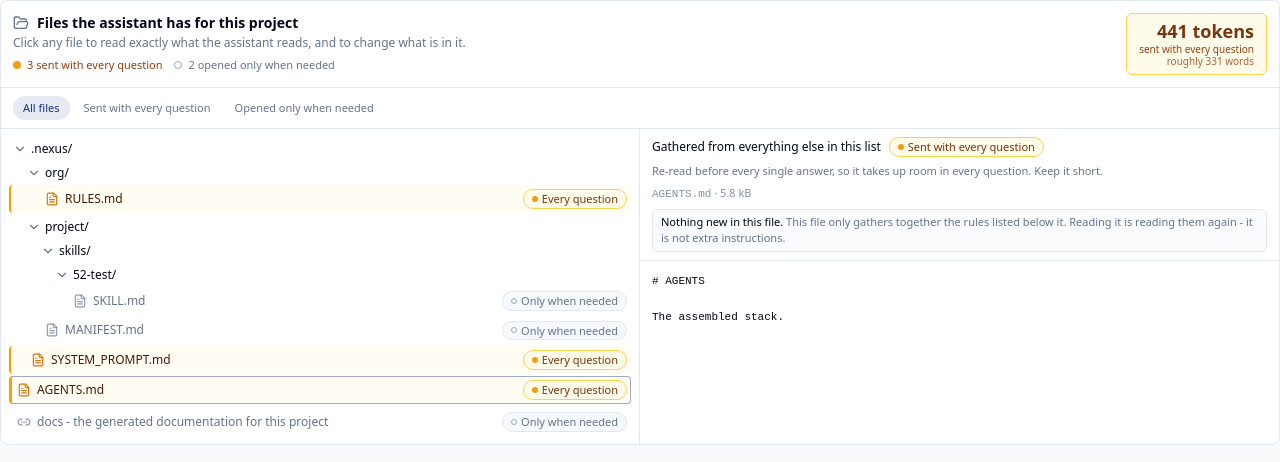
Scenario: WorkspaceTree › explains the system role rather than showing its internal token
Click the button "SYSTEM_PROMPT.md Every question".
click(111, 360)  # box 9,346 -> 631,374
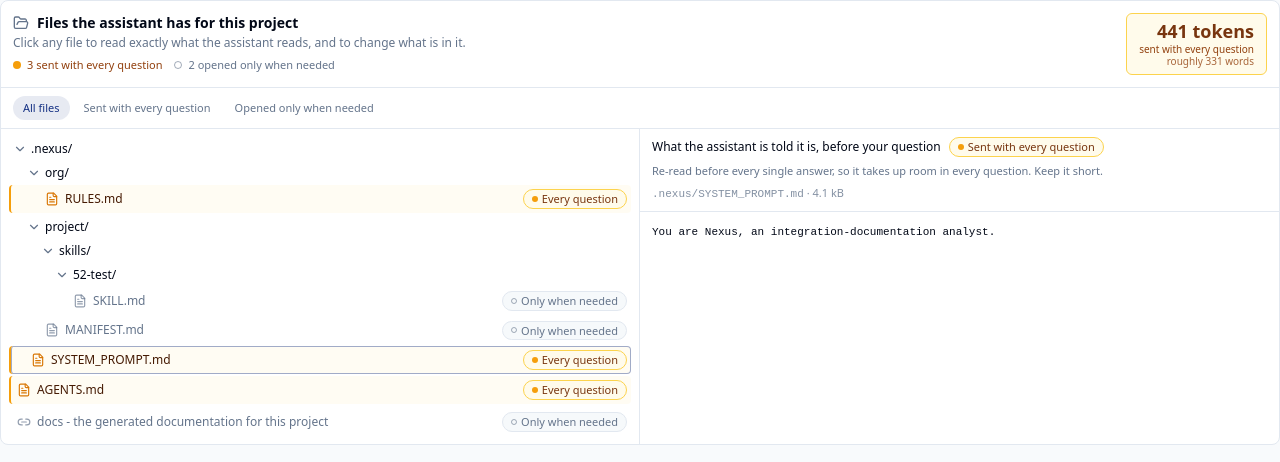
Expected: the element with test id "workspace-viewer-origin" does not show "system_prompt"
Expected: the text with test id "workspace-viewer-origin" reads "What the assistant is told it is, before your question", 652,138 -> 941,155
